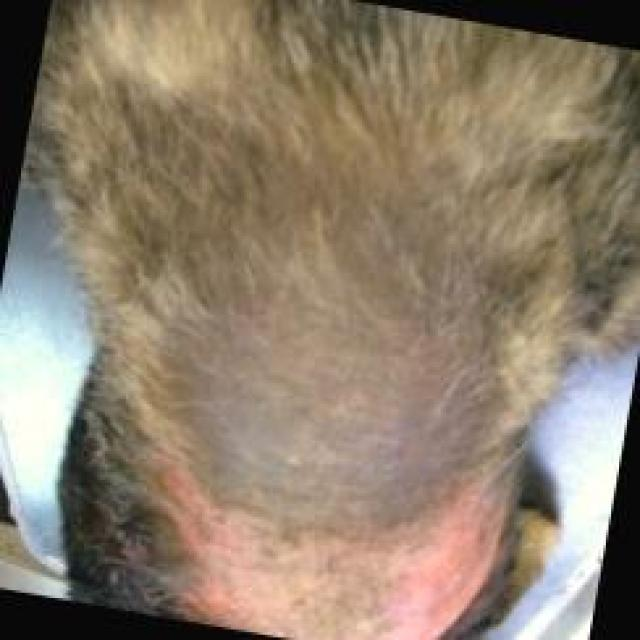allergic dermatitis: (399, 486, 494, 622), (158, 463, 239, 620), (379, 564, 453, 640)
